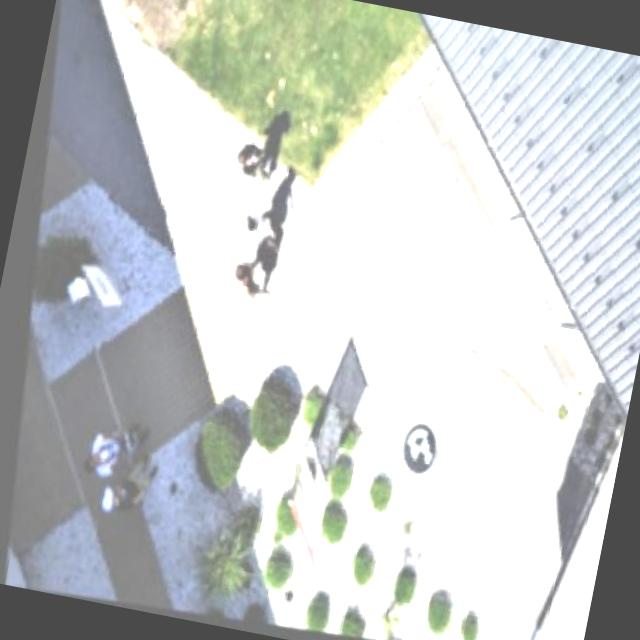Person: (56, 400, 148, 480), (78, 437, 160, 526), (214, 130, 284, 200), (212, 250, 278, 306), (221, 200, 286, 256)
